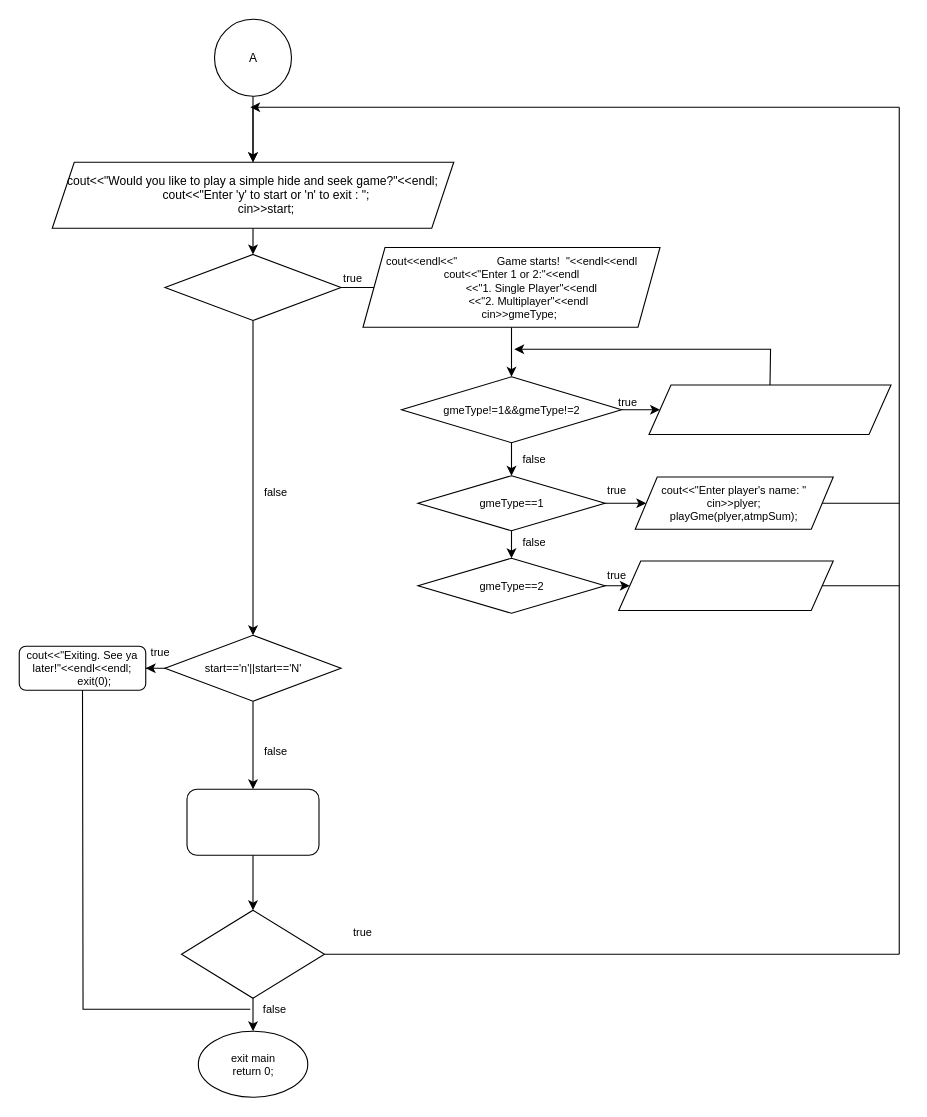
This 927x1117 diagram has some shape labels left out. The centre of each missing label's shape, as x and y in pixels:
cout<<"Input number of players: "; cin>>numPlyer; playGme(numPlyer);: (x=725, y=585)
cout<<"Invalid choice! Please try again."<<endl<<endl;: (x=252, y=821)
cout<<"Invalid choice. Enter [1-2]."<<endl; cin>>gmeType;: (x=769, y=409)
start!='n'&&start!='N': (x=252, y=953)
start=='y'||start=='Y': (x=252, y=286)
